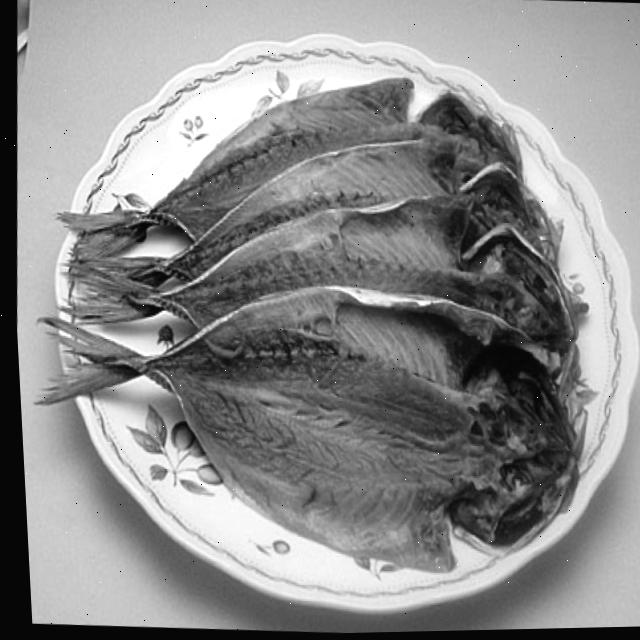熟制海鲜: (1, 16, 618, 589)
